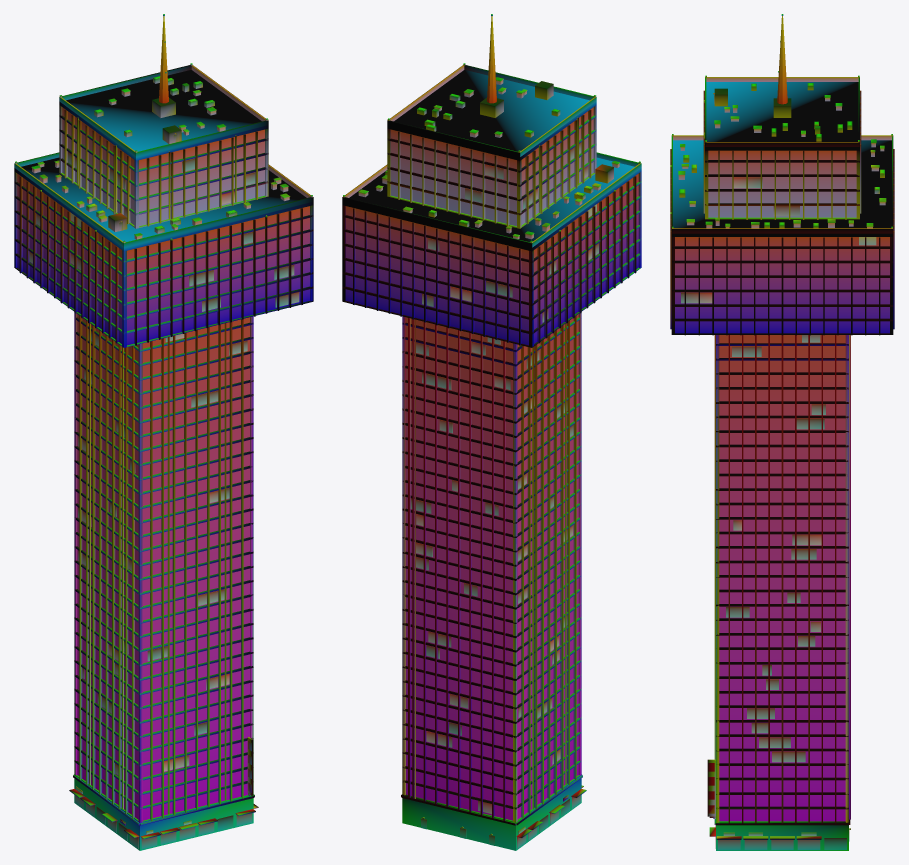
File: Tower_Crown_V13.fbx
3 renders of one model, left to right at view 1: azimuth 30°, elevation 25°; view 2: azimuth 150°, elevation 25°; view 3: azimuth 270°, elevation 25°, orthographic.
Parts seen in each view (by area): view 1: Tower_Crown_V13_LOD0; view 2: Tower_Crown_V13_LOD0; view 3: Tower_Crown_V13_LOD0.
Part boxes in pixels (x1=…): Tower_Crown_V13_LOD0: x1=14, y1=14, x2=313, y2=850; Tower_Crown_V13_LOD0: x1=342, y1=14, x2=641, y2=850; Tower_Crown_V13_LOD0: x1=670, y1=14, x2=894, y2=850.
Size of what is drawn, in the model's own units: 50.6 by 201 by 50.6.
